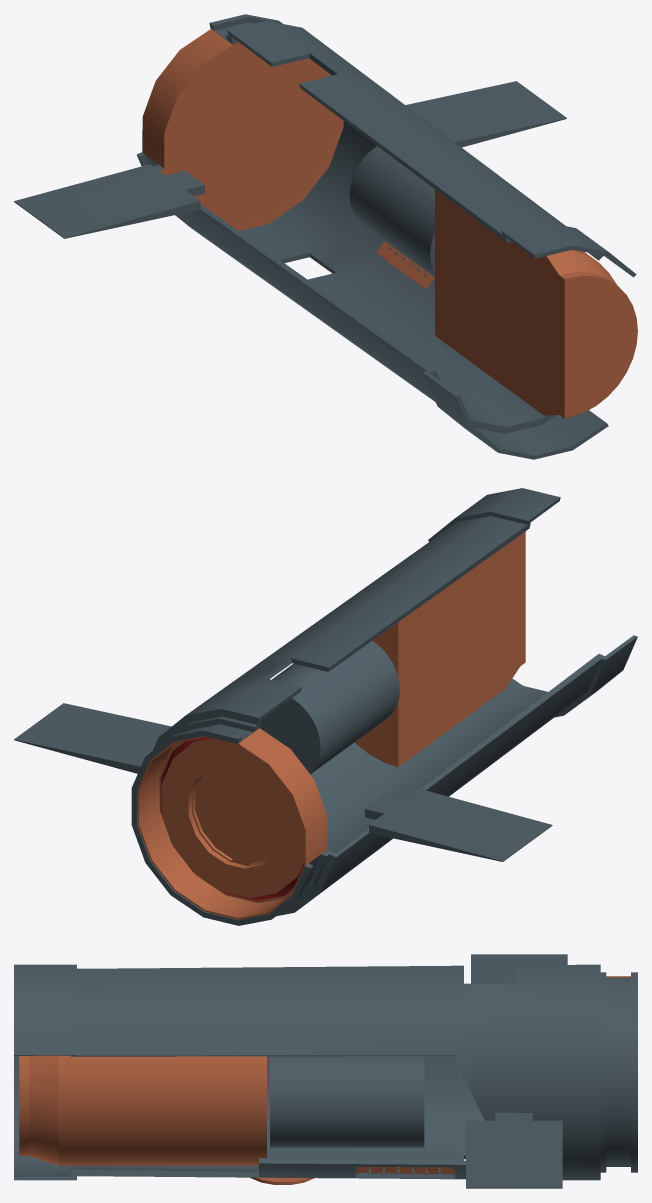
The model's file is ЗУР-РО_Р.fbx.
3 renders of one model, top to bottom at view 1: azimuth 30°, elevation 25°; view 2: azimuth 150°, elevation 25°; view 3: azimuth 270°, elevation 25°, orthographic. The views are drawn at different scales.
Parts seen in each view (by area): view 1: Circle.022; view 2: Circle.022; view 3: Circle.022.
Boxes of the visible parts, <box> form: Circle.022: <box>14,14,637,459</box>; Circle.022: <box>14,488,637,925</box>; Circle.022: <box>14,954,637,1188</box>.
Bounding box in the file's own units: 149 × 58.27 × 168.
Materials: 1 (1 with a texture image).
